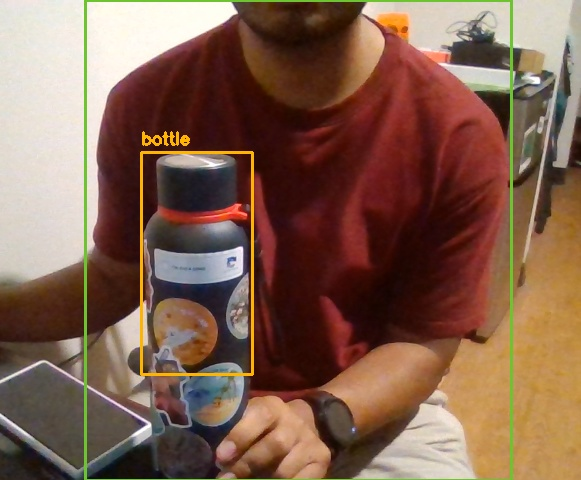bottle: (141, 152, 252, 374)
